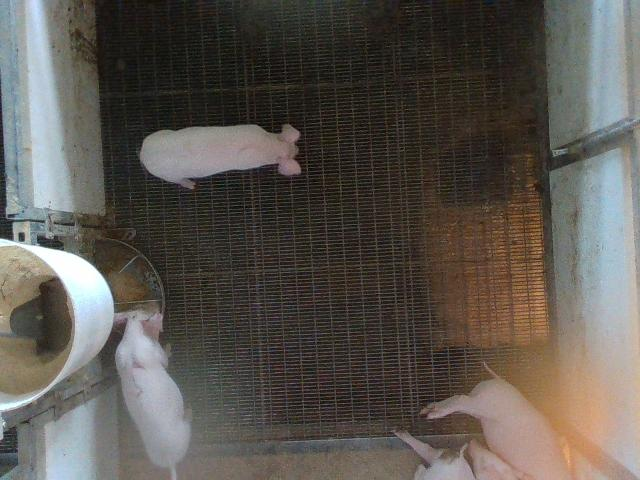pig-5: (114, 309, 191, 478)
